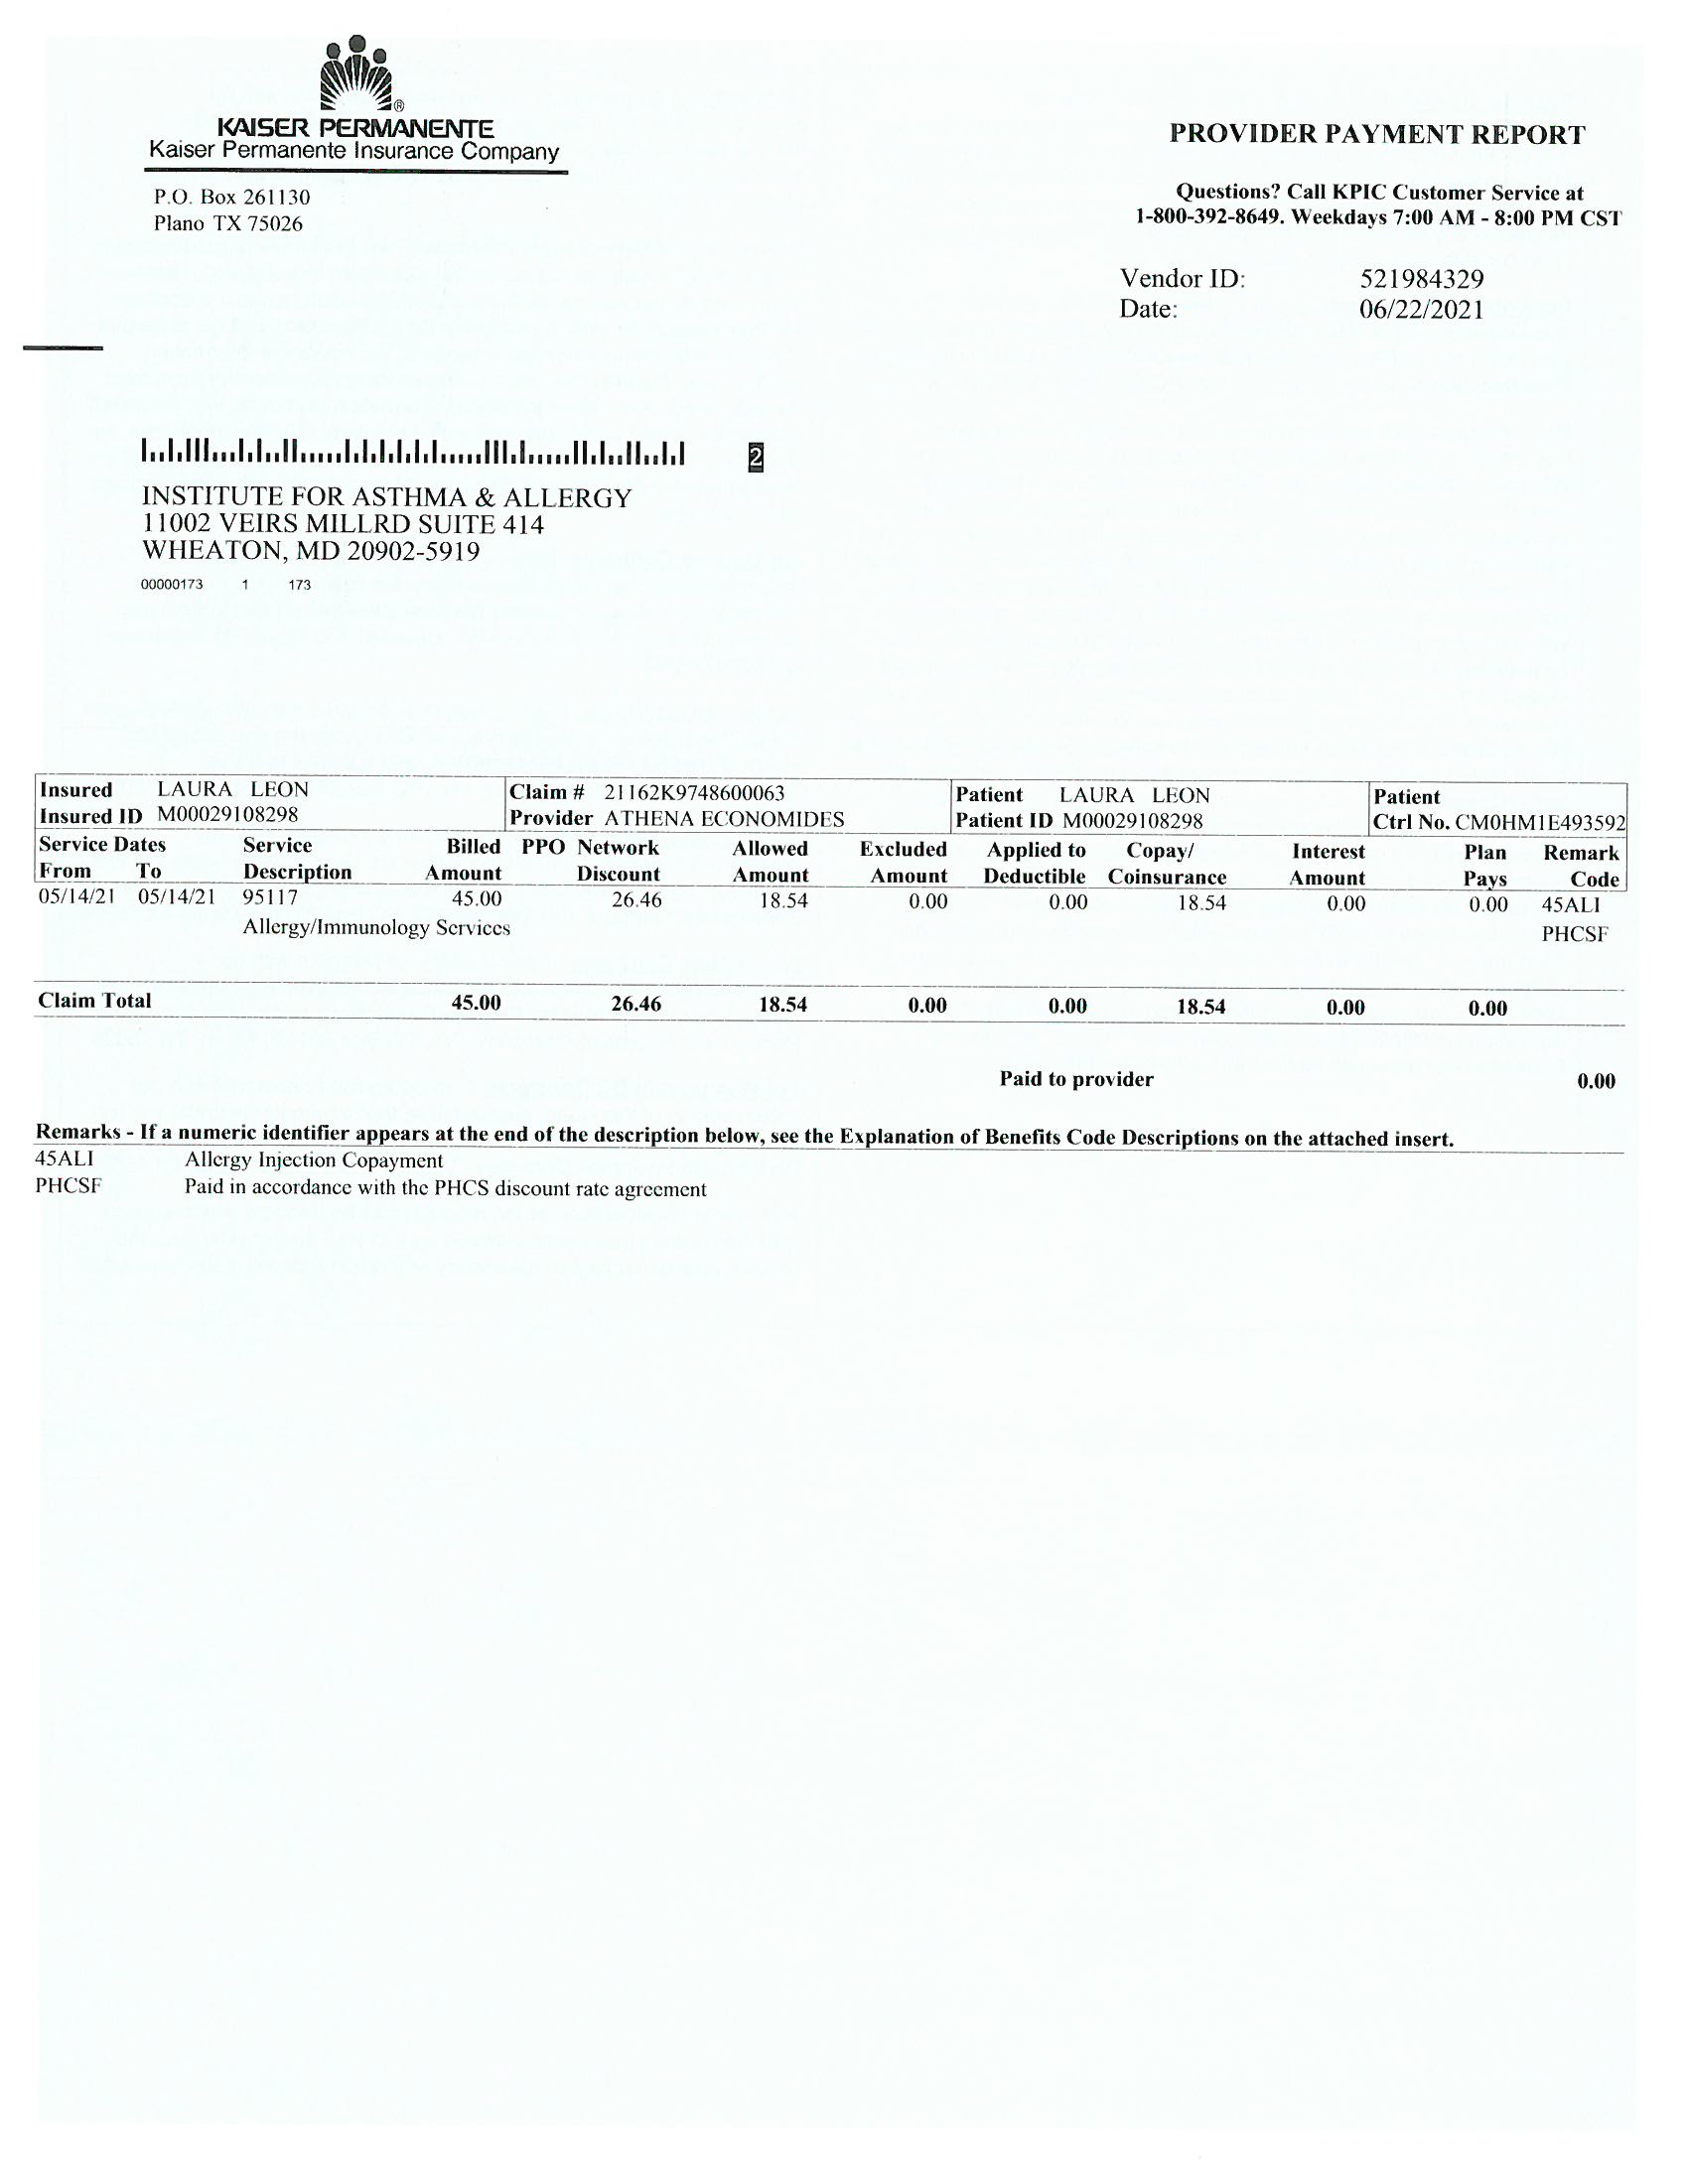data: (1098, 255, 1530, 347)
table: (28, 752, 1642, 966)
